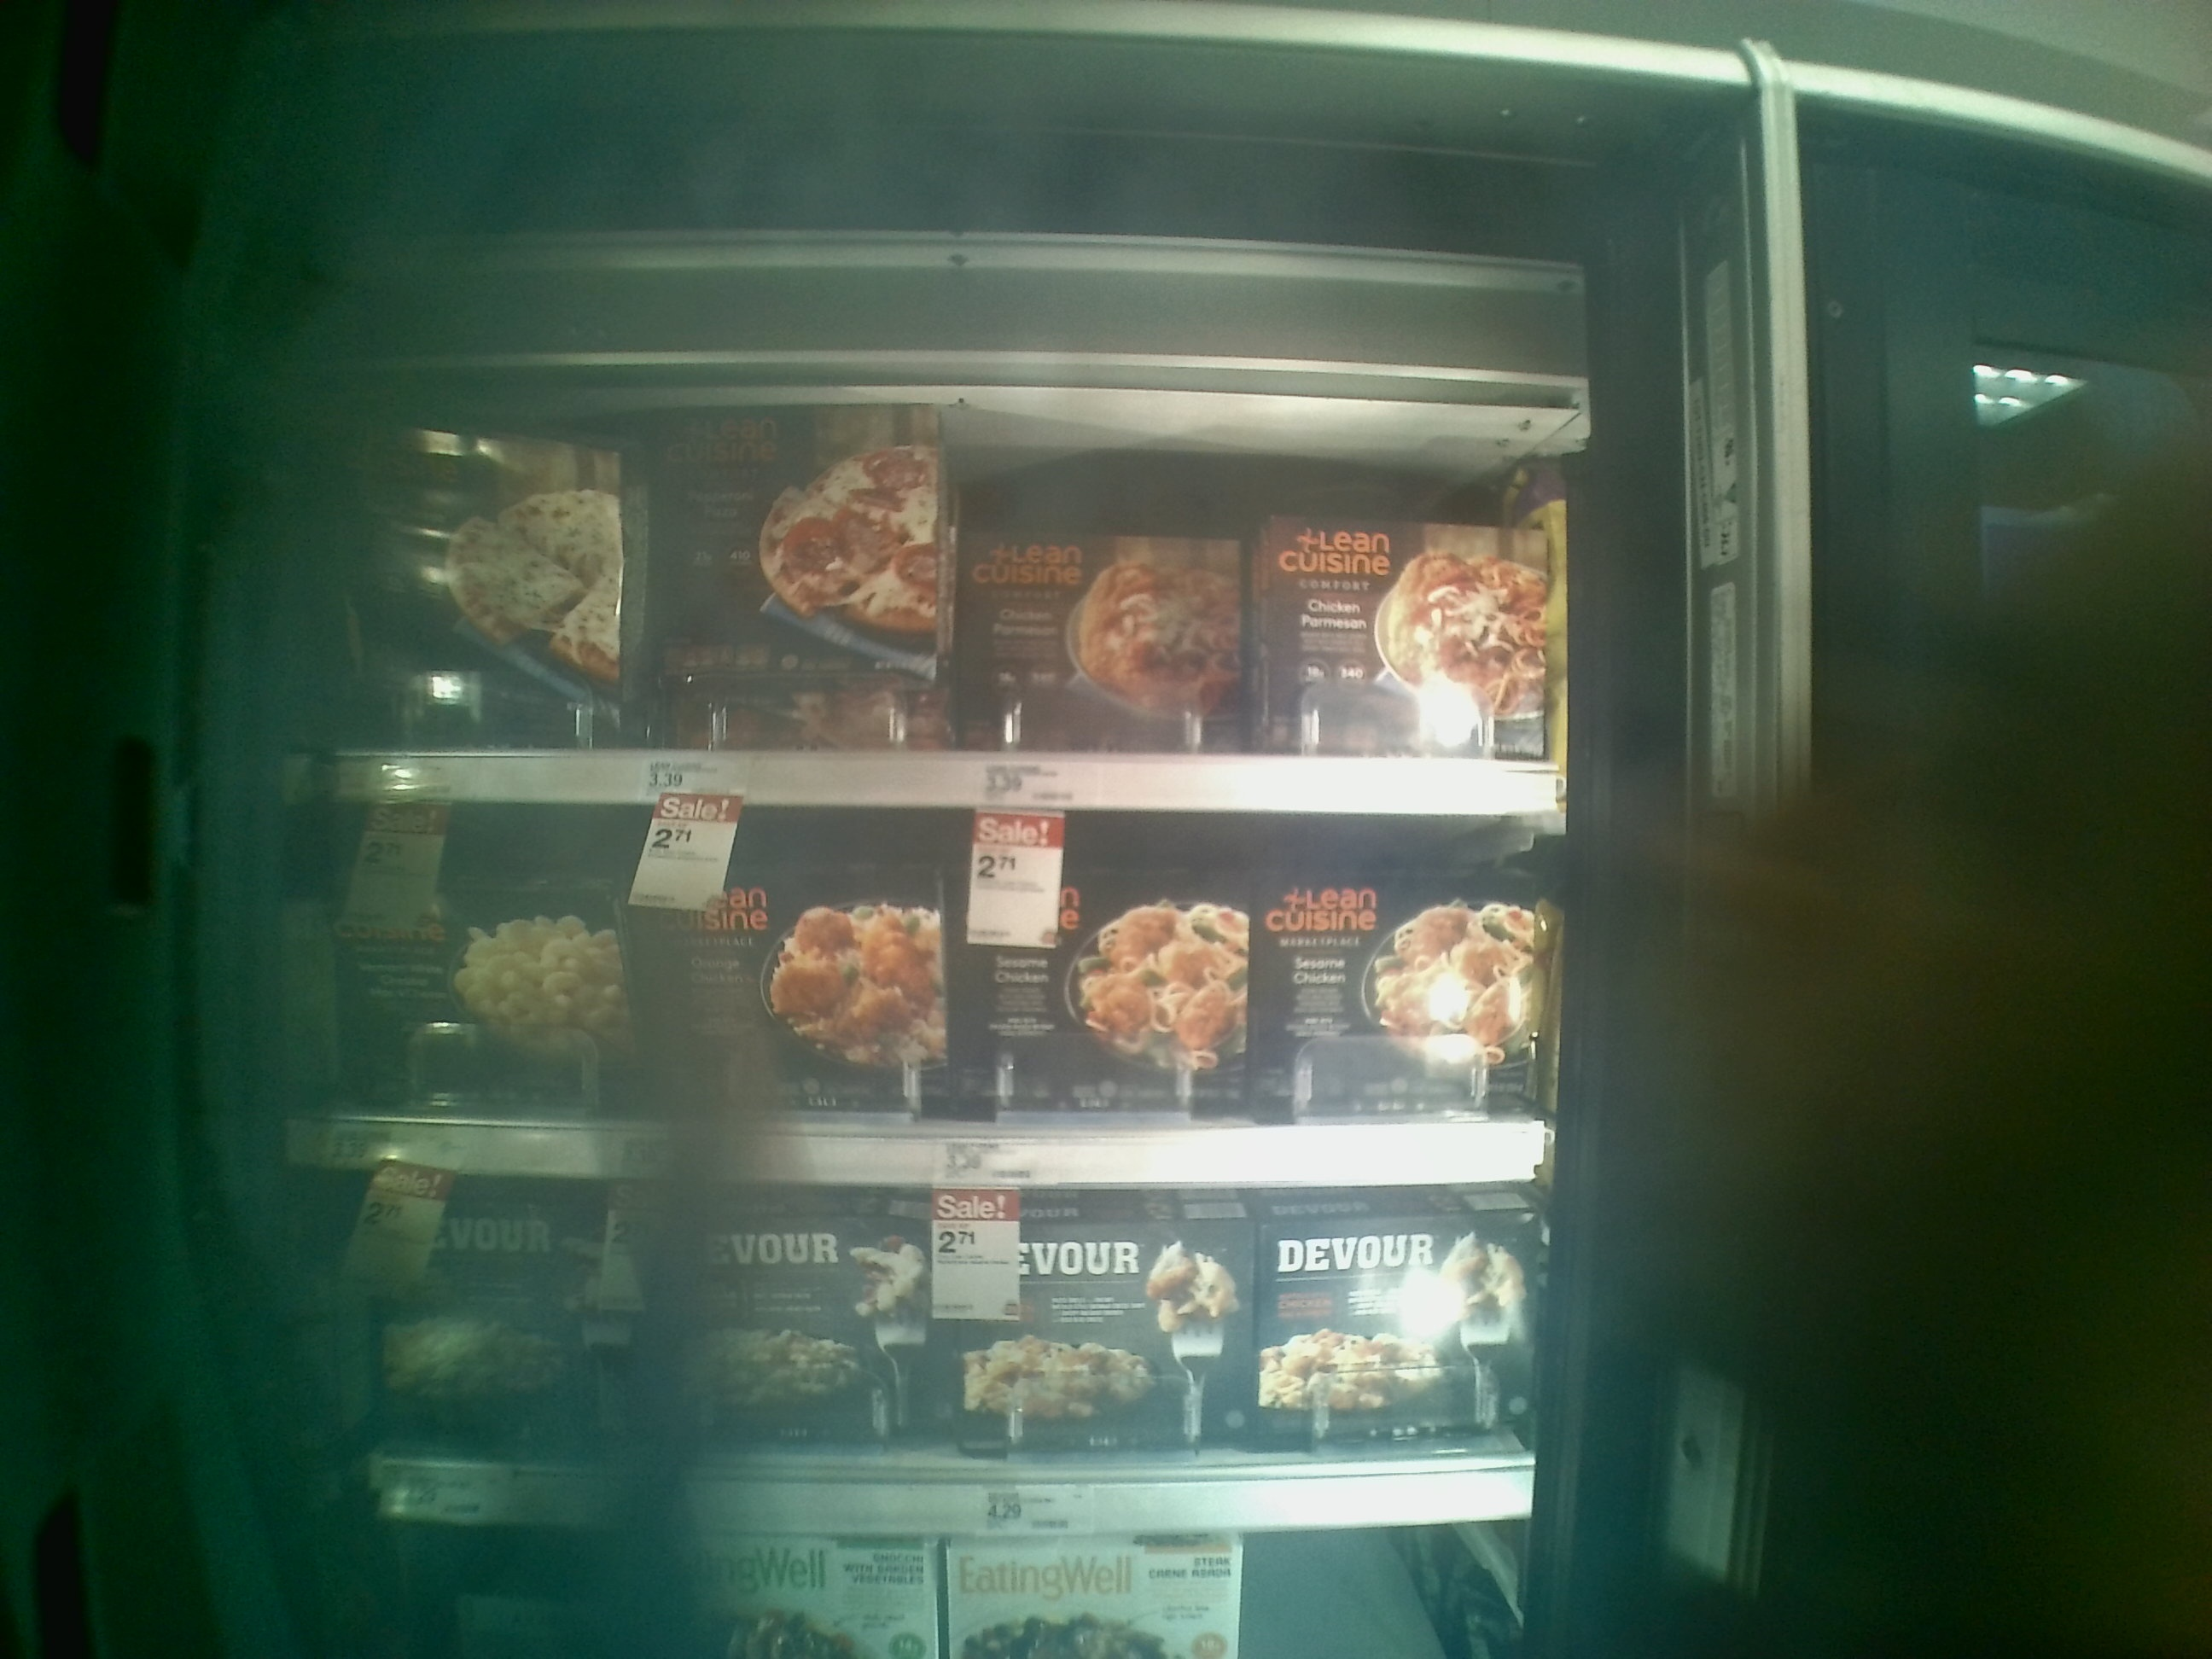shelf: (293, 359, 1548, 816), (300, 802, 1547, 1182), (300, 1166, 1557, 1535)
